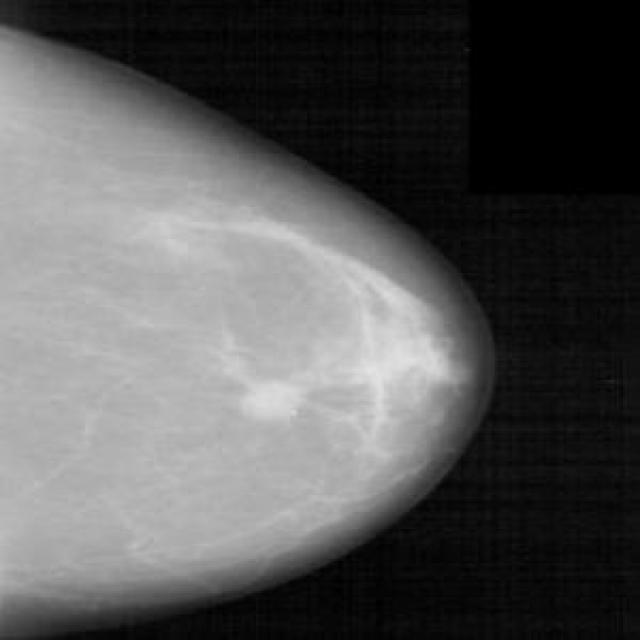tumor: (211, 232, 461, 436)
